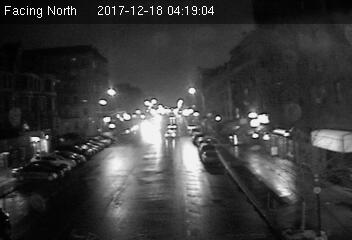car: (202, 150, 220, 166)
